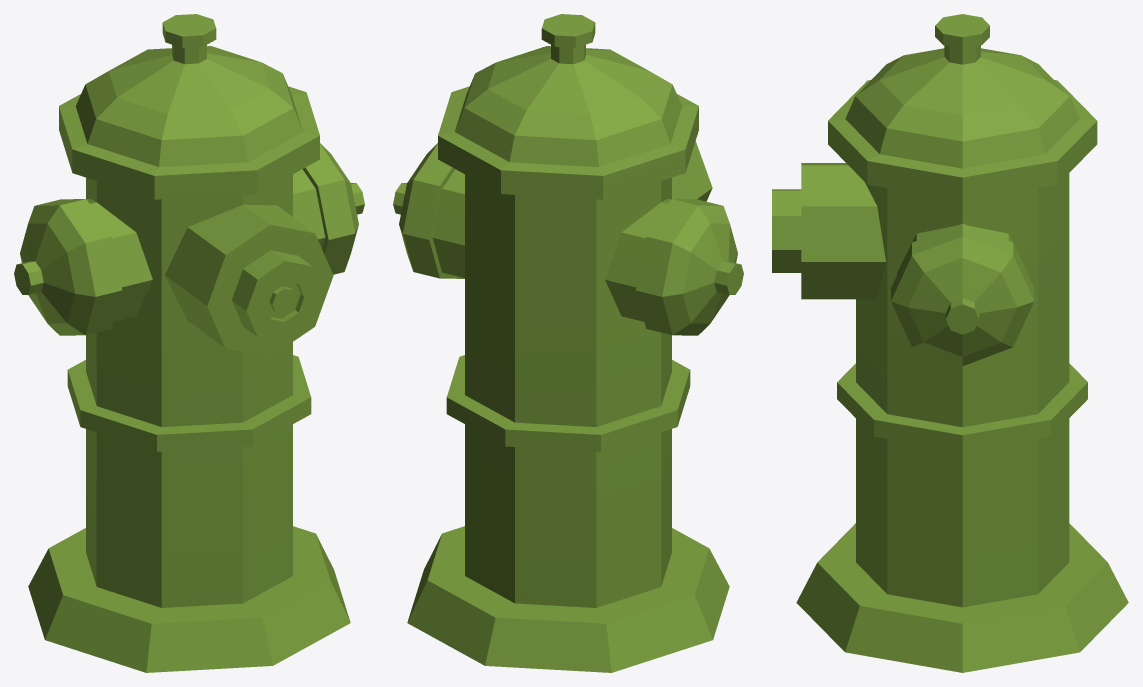
File: Hydrant.fbx
3 renders of one model, left to right at view 1: azimuth 30°, elevation 25°; view 2: azimuth 150°, elevation 25°; view 3: azimuth 270°, elevation 25°, orthographic.
Visible parts, largest first — view 1: Hydrant; view 2: Hydrant; view 3: Hydrant.
Boxes of the visible parts, x1=… form: Hydrant: x1=14, y1=14, x2=364, y2=672; Hydrant: x1=393, y1=14, x2=743, y2=672; Hydrant: x1=772, y1=14, x2=1128, y2=672.
Bounding box in the file's own units: 0.4433 × 0.735 × 0.4118.
